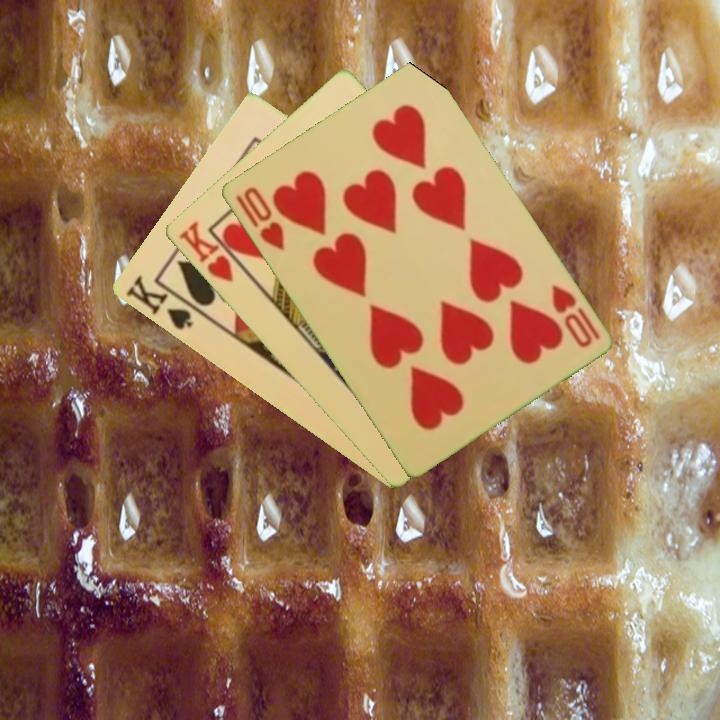10h: (231, 183, 288, 253), (547, 280, 603, 351)
Kh: (175, 217, 250, 285)
Ks: (121, 271, 196, 333)
